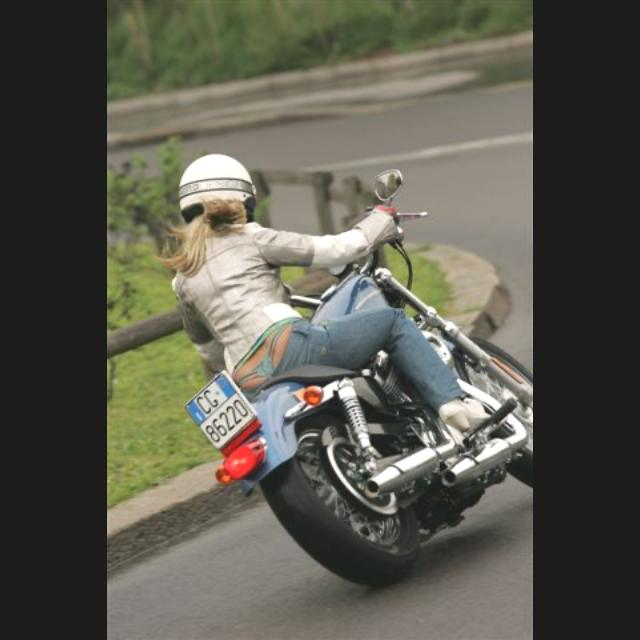With Helmet: (168, 146, 264, 240)
